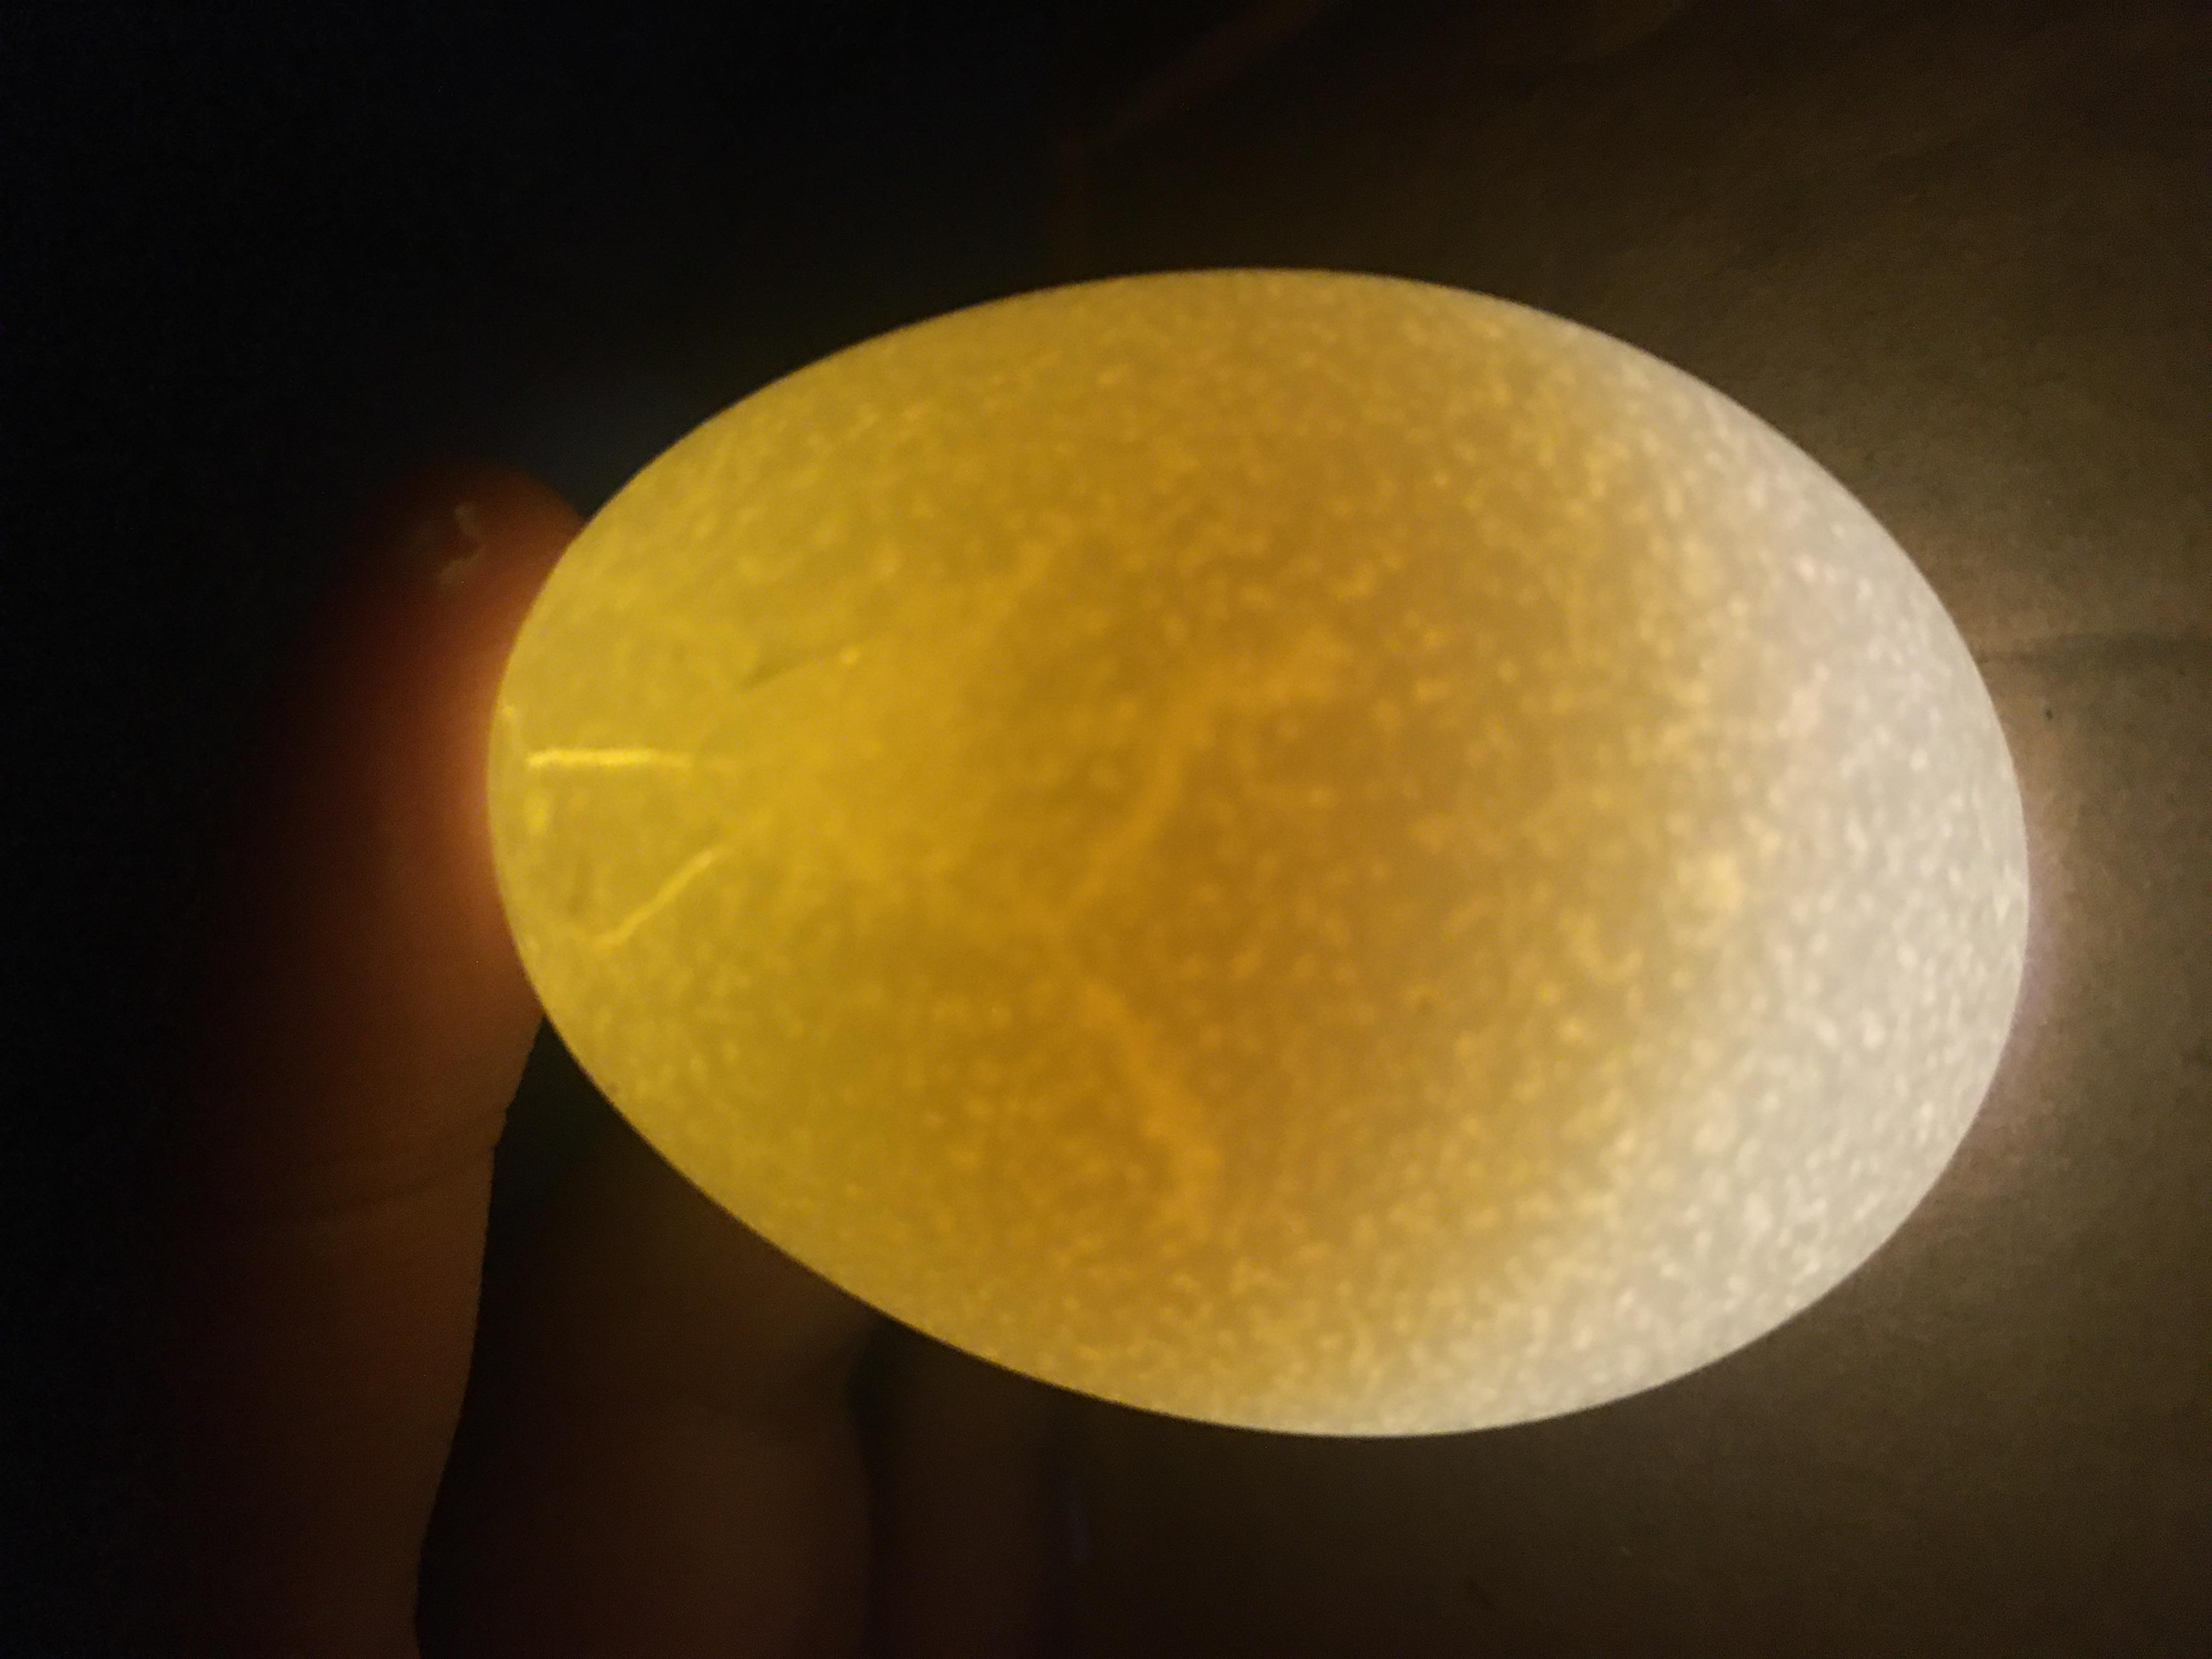B - Fair: (273, 342, 1876, 1535)
